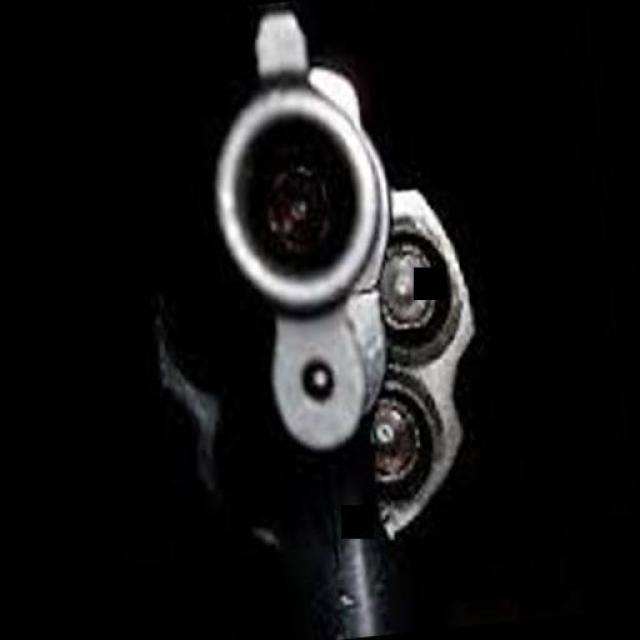gun: (118, 0, 502, 640)
